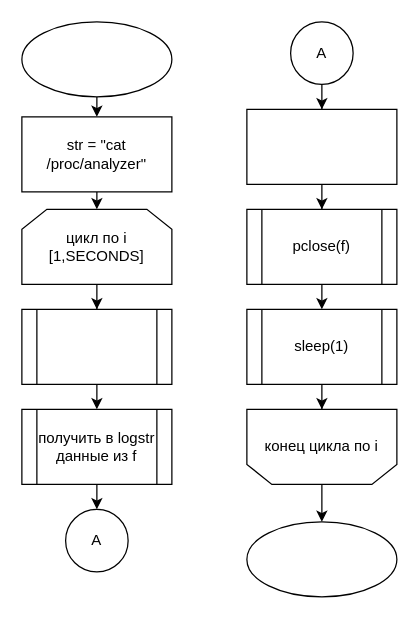
Image size: 419x619. Some labels were removed from this diagram. The shapes that lost their labels are listed below. From the top down, each one's box as (x1, y1, x2, y2) in pixels, then its label:
(21, 21, 172, 97): начало
(246, 108, 397, 184): вывести logstr
(21, 308, 172, 384): f = popen(str,"r")
(246, 521, 397, 597): конец
